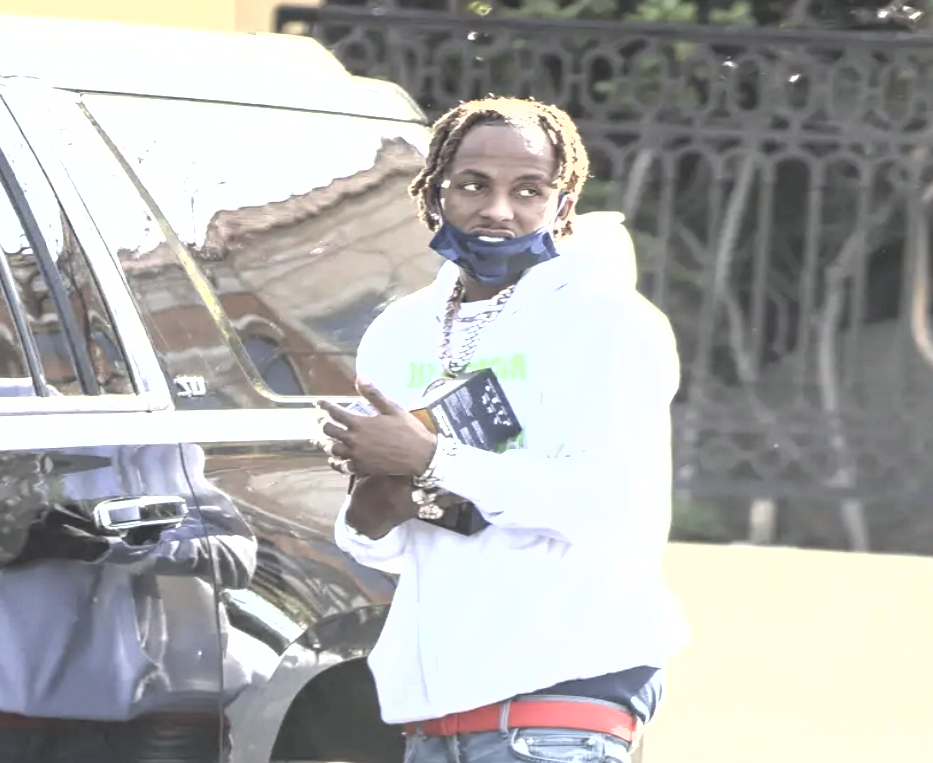mask_weared_incorrect: (411, 97, 587, 288)
